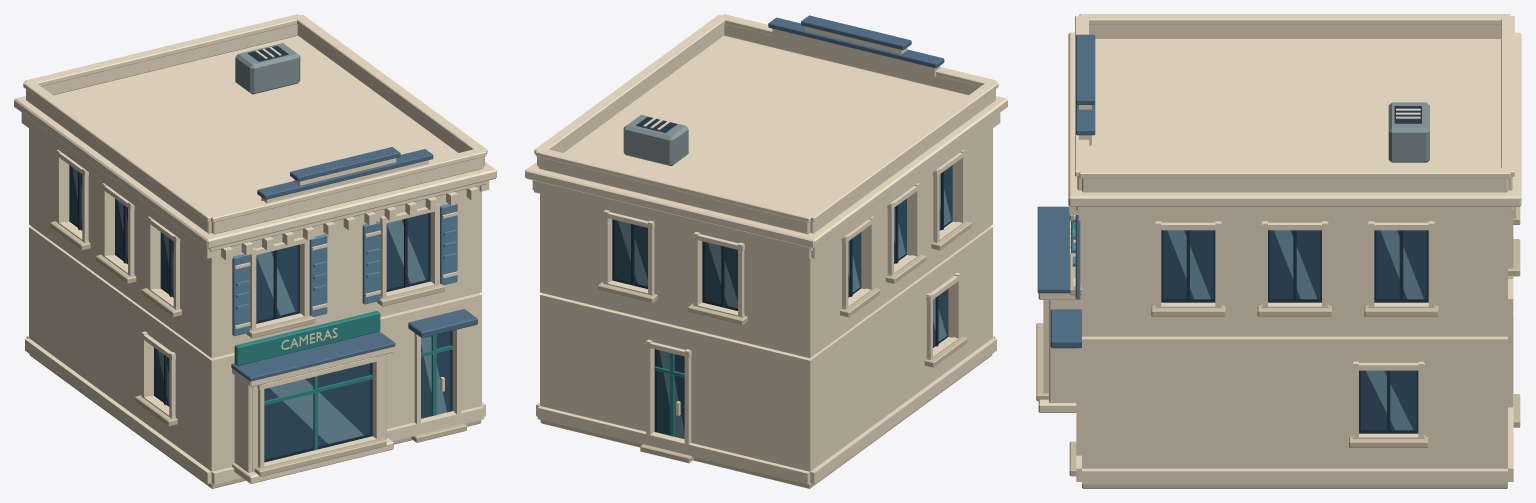
The model's file is camera_shop.glb.
3 views of the same model, side by side, from view 1: azimuth 30°, elevation 25°; view 2: azimuth 150°, elevation 25°; view 3: azimuth 270°, elevation 25° (orthographic). The views are drawn at different scales.
Visible parts, largest first — view 1: CameraShop_StaticMesh; view 2: CameraShop_StaticMesh; view 3: CameraShop_StaticMesh.
Boxes of the visible parts, box(x1,y1,x2,y2) form: CameraShop_StaticMesh: box(14, 14, 496, 488); CameraShop_StaticMesh: box(525, 14, 1007, 488); CameraShop_StaticMesh: box(1036, 14, 1521, 488).
Bounding box in the file's own units: 7.52 × 7.27 × 9.34.
